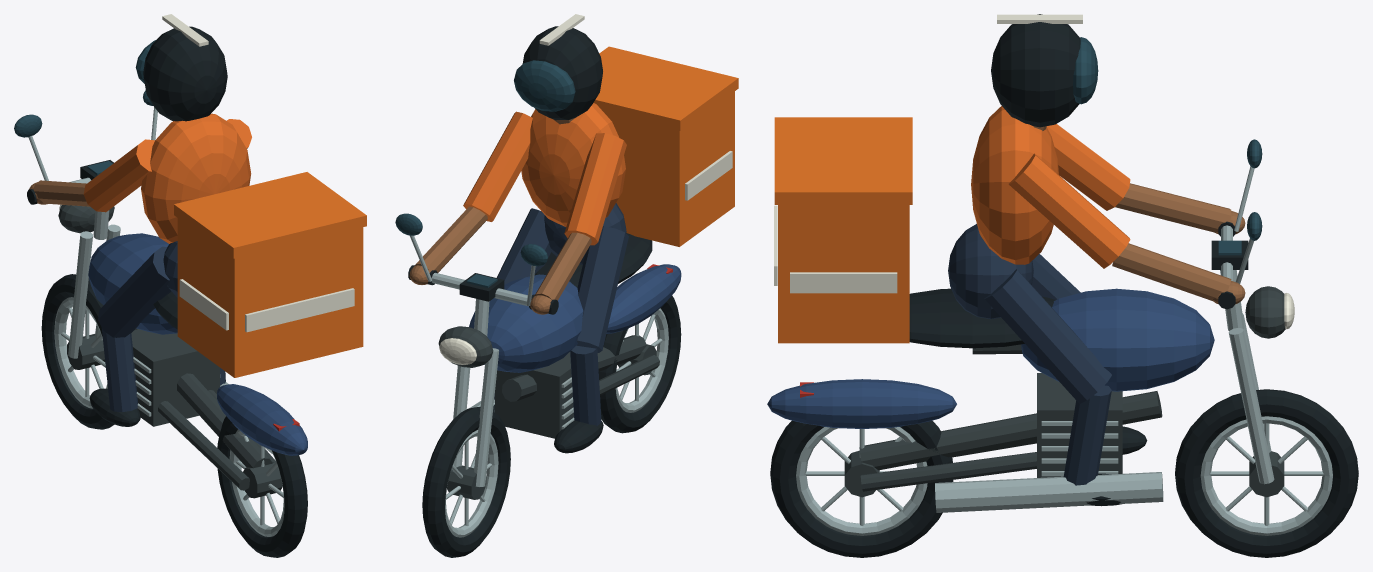
Rendered from delivery.glb.
3 views of the same model, side by side, from view 1: azimuth 30°, elevation 25°; view 2: azimuth 150°, elevation 25°; view 3: azimuth 270°, elevation 25° (orthographic). The views are drawn at different scales.
Parts seen in each view (by area): view 1: Unbranded insulated delivery box, delivery part 232, delivery part 214, delivery part 216, Engine, delivery part 159, delivery part 210, delivery part 200, delivery part 219, delivery part 171, delivery part 222, delivery part 198 (+16 smaller); view 2: Unbranded insulated delivery box, delivery part 232, delivery part 214, delivery part 200, delivery part 171, delivery part 219, Engine, delivery part 222, delivery part 216, delivery part 228, delivery part 159, delivery part 210 (+24 smaller); view 3: Unbranded insulated delivery box, delivery part 232, delivery part 200, delivery part 171, delivery part 214, delivery part 216, delivery part 159, delivery part 210, delivery part 207, delivery part 225, delivery part 198, delivery part 228 (+18 smaller).
Boxes of the visible parts, <box> form: Unbranded insulated delivery box: <box>177,218,363,377</box>; delivery part 232: <box>174,172,366,258</box>; delivery part 214: <box>141,113,251,243</box>; delivery part 216: <box>143,26,227,121</box>; Engine: <box>131,329,219,426</box>; delivery part 159: <box>217,416,307,557</box>; delivery part 210: <box>217,384,307,455</box>; delivery part 200: <box>88,233,177,334</box>; delivery part 219: <box>98,246,171,337</box>; delivery part 171: <box>41,274,114,429</box>; delivery part 222: <box>83,139,154,212</box>; delivery part 198: <box>134,328,272,468</box>; Unbranded insulated delivery box: <box>604,91,734,246</box>; delivery part 232: <box>593,46,738,130</box>; delivery part 214: <box>521,103,625,226</box>; delivery part 200: <box>469,274,583,372</box>; delivery part 171: <box>422,406,510,557</box>; delivery part 219: <box>576,226,628,352</box>; Engine: <box>495,352,573,438</box>; delivery part 222: <box>564,133,626,245</box>; delivery part 216: <box>522,26,602,120</box>; delivery part 228: <box>463,111,532,221</box>; delivery part 159: <box>598,295,681,433</box>; delivery part 210: <box>606,264,681,333</box>; Unbranded insulated delivery box: <box>778,205,909,343</box>; delivery part 232: <box>774,117,912,204</box>; delivery part 200: <box>1021,288,1214,391</box>; delivery part 171: <box>1175,389,1358,557</box>; delivery part 214: <box>971,106,1058,264</box>; delivery part 216: <box>991,14,1080,127</box>; delivery part 159: <box>770,420,953,557</box>; delivery part 210: <box>767,379,956,428</box>; delivery part 207: <box>935,472,1163,512</box>; delivery part 225: <box>984,269,1111,403</box>; delivery part 198: <box>859,391,1162,470</box>; delivery part 228: <box>1008,153,1130,268</box>.
Bounding box in the file's own units: 0.68 × 1.94 × 1.93.
